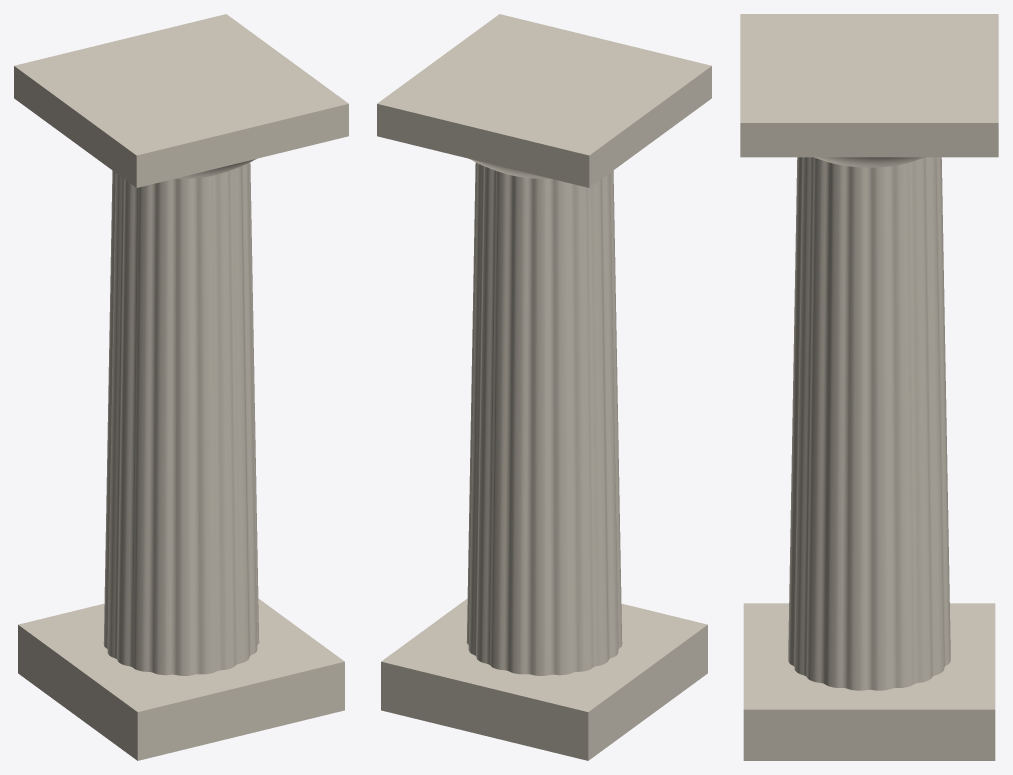
The model's file is demo-column.glb.
3 views of the same model, side by side, from view 1: azimuth 30°, elevation 25°; view 2: azimuth 150°, elevation 25°; view 3: azimuth 270°, elevation 25° (orthographic). The views are drawn at different scales.
Visible parts, largest first — view 1: demo-column; view 2: demo-column; view 3: demo-column.
Part boxes in pixels (bbox=[...]): demo-column: bbox=[14, 14, 348, 760]; demo-column: bbox=[377, 14, 711, 760]; demo-column: bbox=[740, 14, 998, 760].
Bounding box in the file's own units: 0.82 × 2.24 × 0.82.
